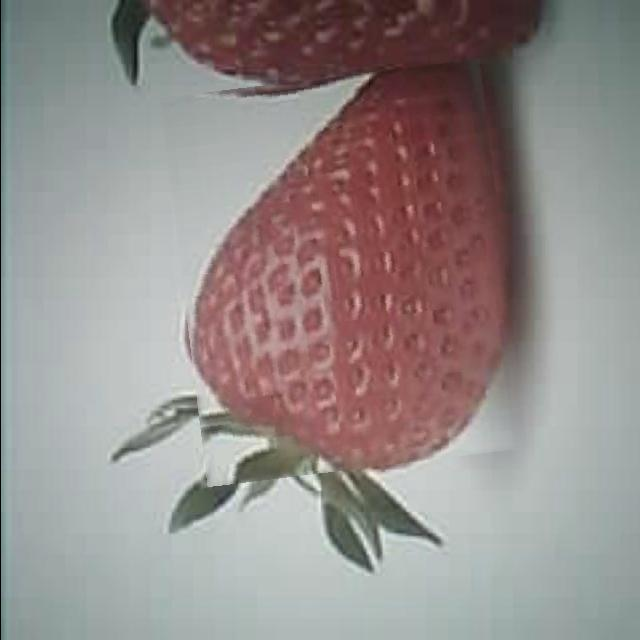strawberry: (170, 68, 516, 478)
